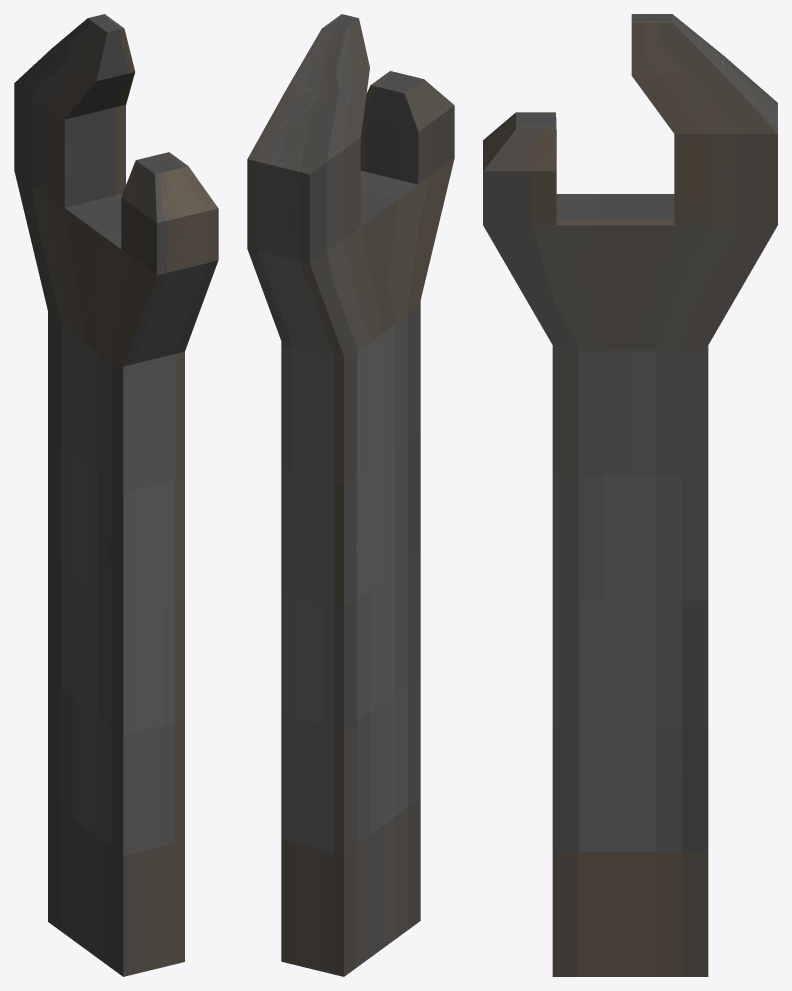
File: wrench.fbx
The picture shows the model from 3 angles, left to right: view 1: azimuth 30°, elevation 25°; view 2: azimuth 150°, elevation 25°; view 3: azimuth 270°, elevation 25°; orthographic projection. The views are drawn at different scales.
Visible parts, largest first — view 1: skiftnyckel; view 2: skiftnyckel; view 3: skiftnyckel.
Part boxes in pixels (box(x1,y1,x2,y2)): skiftnyckel: box(14, 14, 218, 976); skiftnyckel: box(247, 14, 454, 976); skiftnyckel: box(483, 14, 777, 976).
Size of the model in its own units: 1.78 by 25.09 by 7.11.
1 material, 1 textured.
